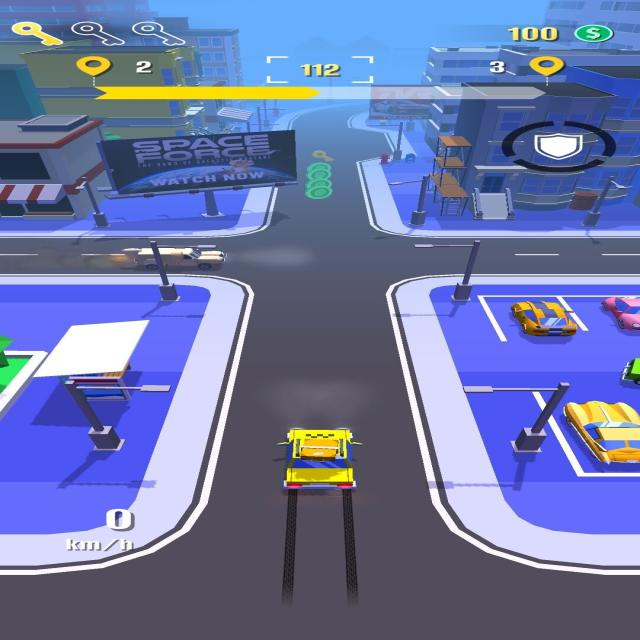billboard: (101, 129, 302, 198)
